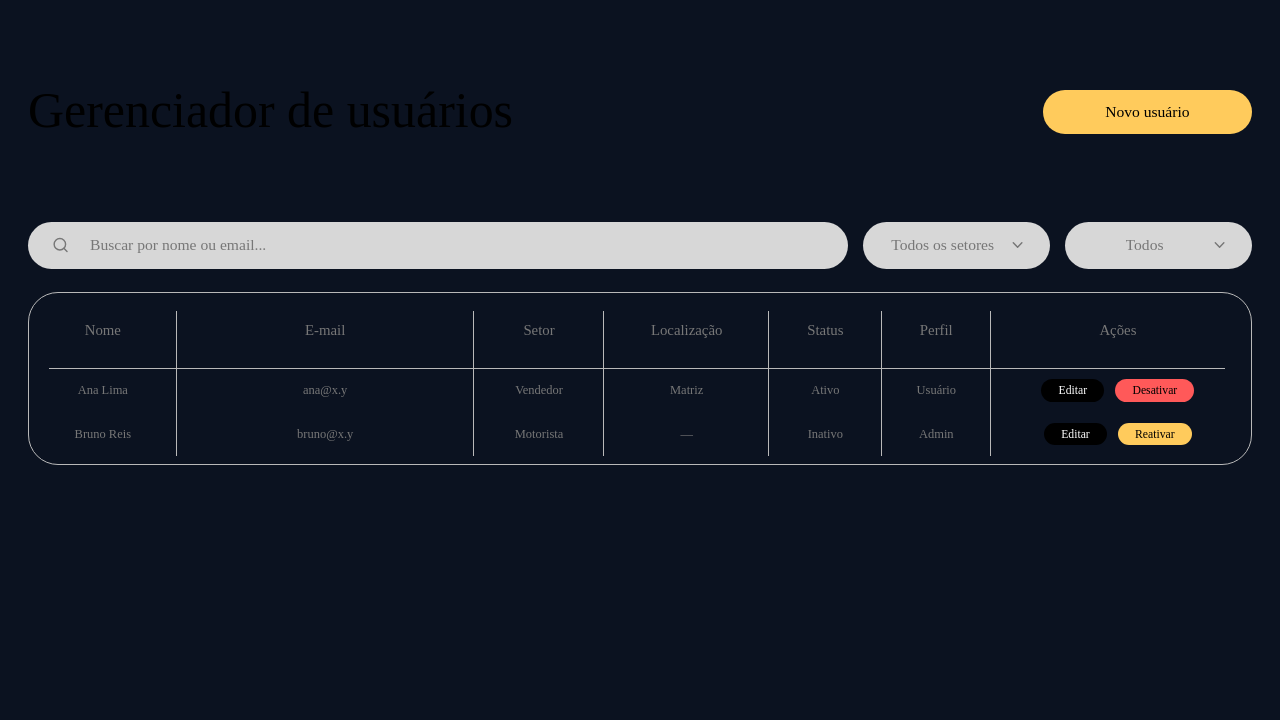
it: UsuariosView (W1-C04) › regra de negócio negada (RN-010) vira toast de erro
Check: the text "Ana Lima" is shown, box [78,383,128,397]
Click the button "Desativar".
click(1155, 390)  # box [1115,379,1194,402]
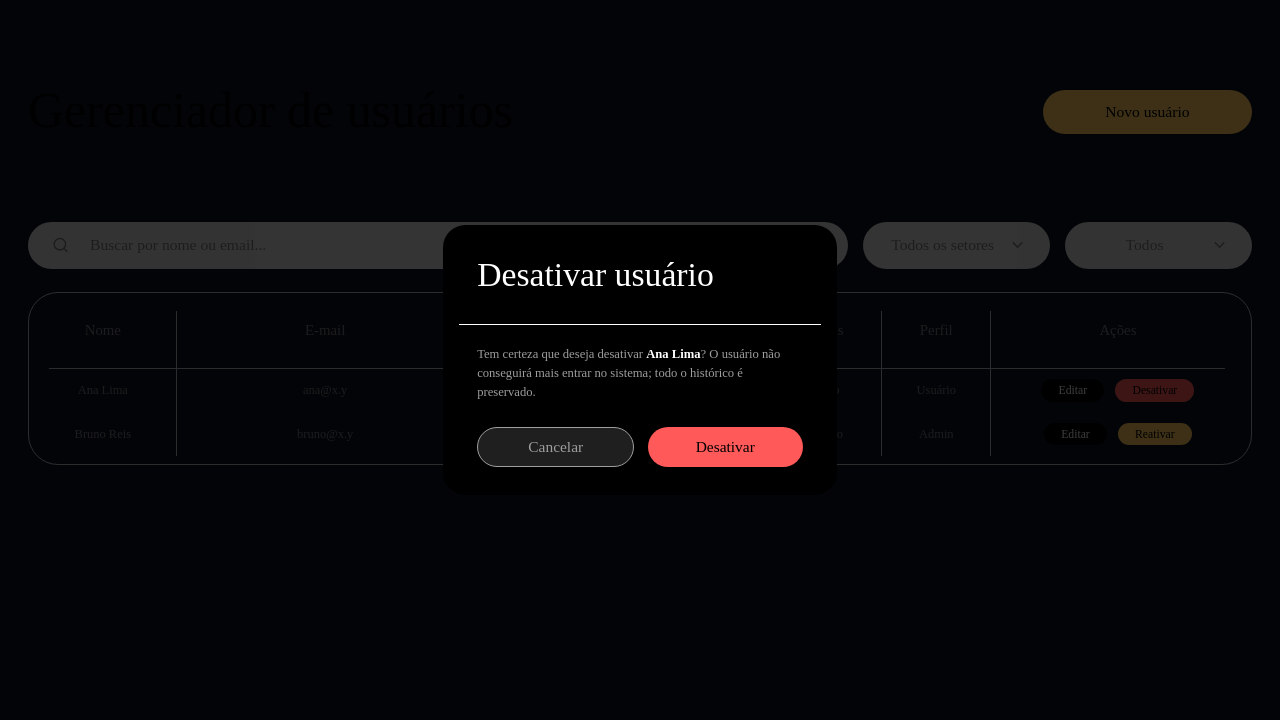
Click the button "Desativar".
click(725, 447)  # box [648,427,803,466]
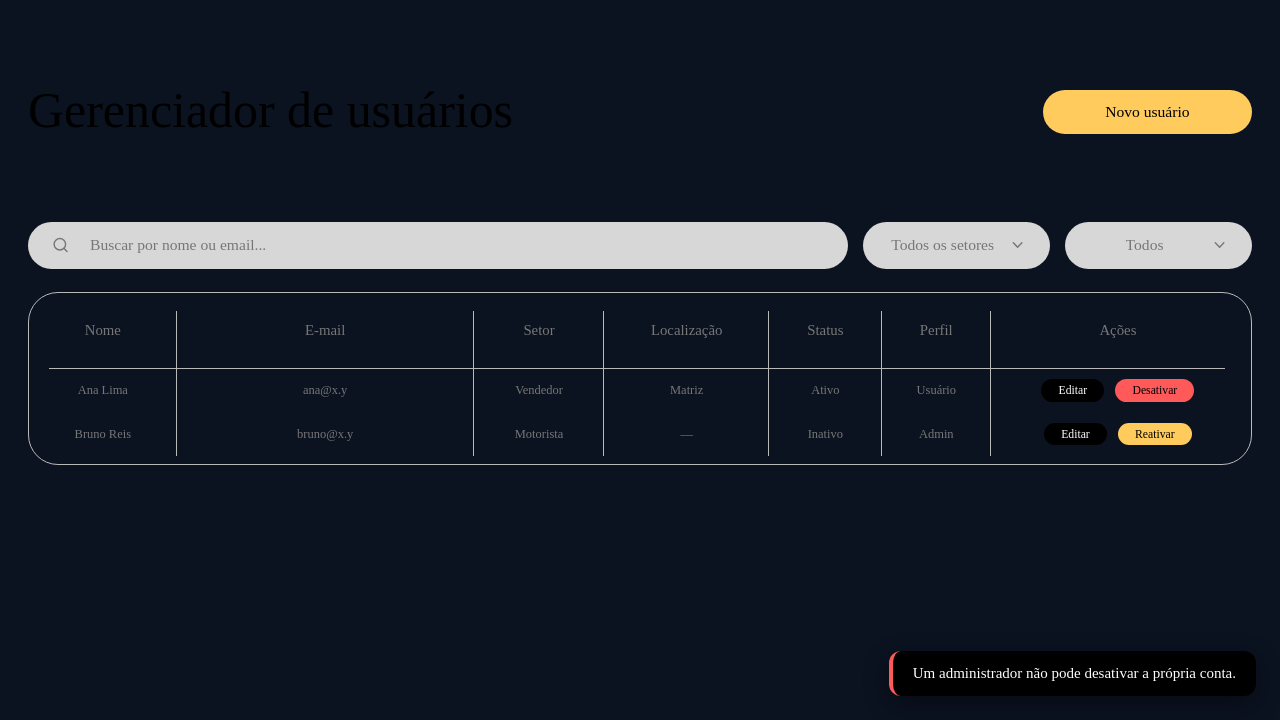
Check: the text "Um administrador não pode desativar a própria conta." is shown, box [889,651,1256,696]
